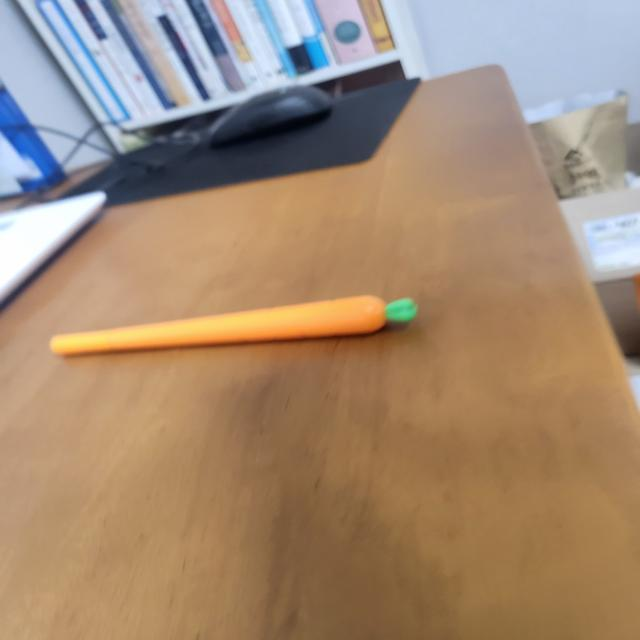carrot: (42, 294, 386, 357)
